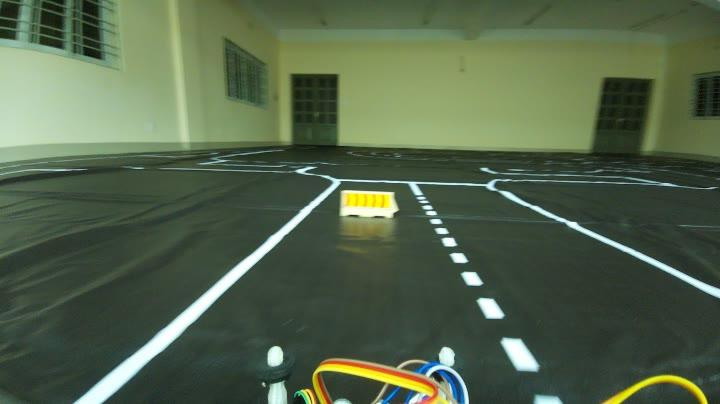roadblock: (336, 187, 398, 220)
